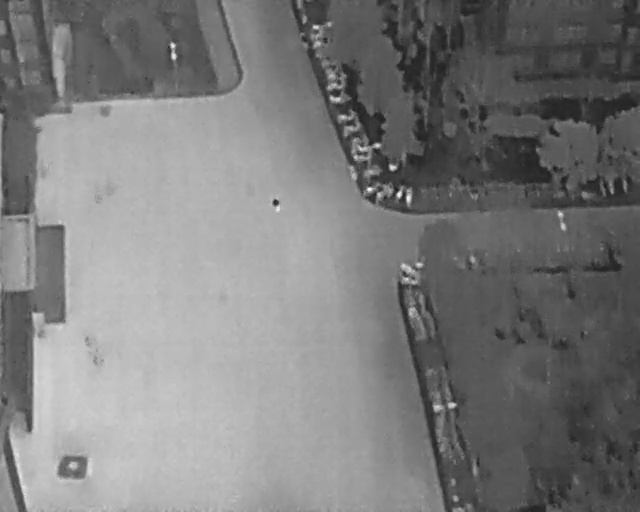Bicycle: (372, 182, 396, 206), (341, 119, 365, 140), (361, 179, 384, 200), (333, 108, 359, 125), (330, 93, 351, 102), (326, 81, 346, 90), (406, 187, 413, 207), (397, 182, 405, 199)
DontCare: (301, 19, 345, 77)
Person: (272, 195, 281, 212)
